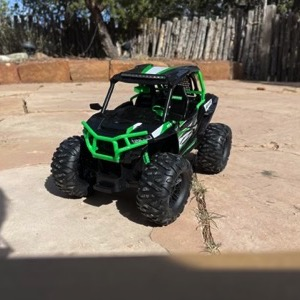polaris: (51, 63, 233, 228)
